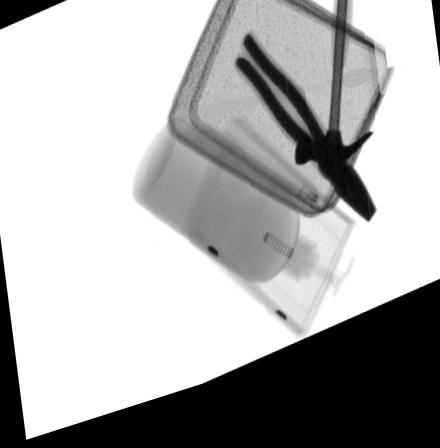Hammer: (293, 0, 373, 187)
Pliers: (231, 47, 377, 248)
